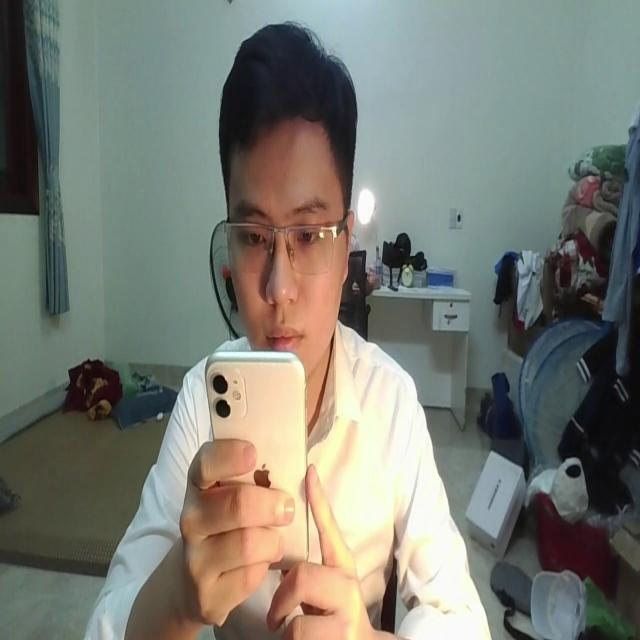phone: (206, 343, 312, 582)
student: (80, 28, 490, 640)
